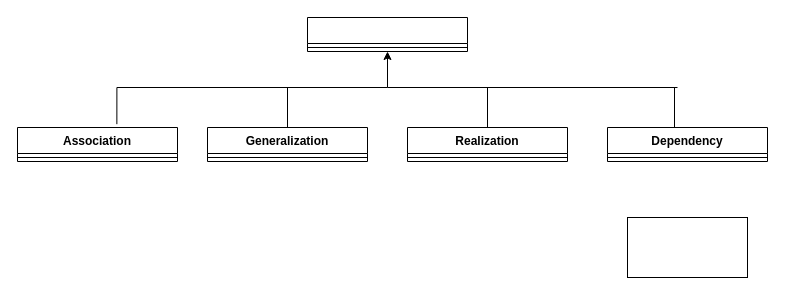
Some shapes in this 785 by 295 pixel diagram are drawn without their labels. The centre of each missing label's shape, as x and y in pixels:
Relation: the point at 387,34
關聯,泛化, 現實,依賴都 是一種關係: the point at 687,247
